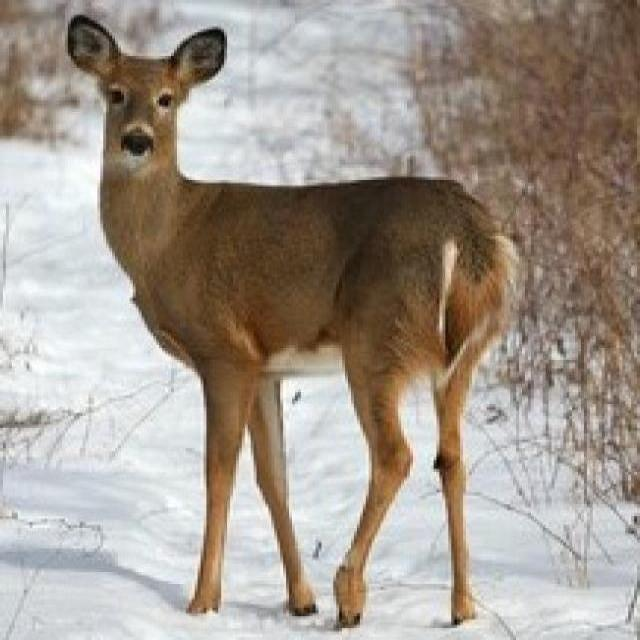deer: (66, 18, 515, 617)
